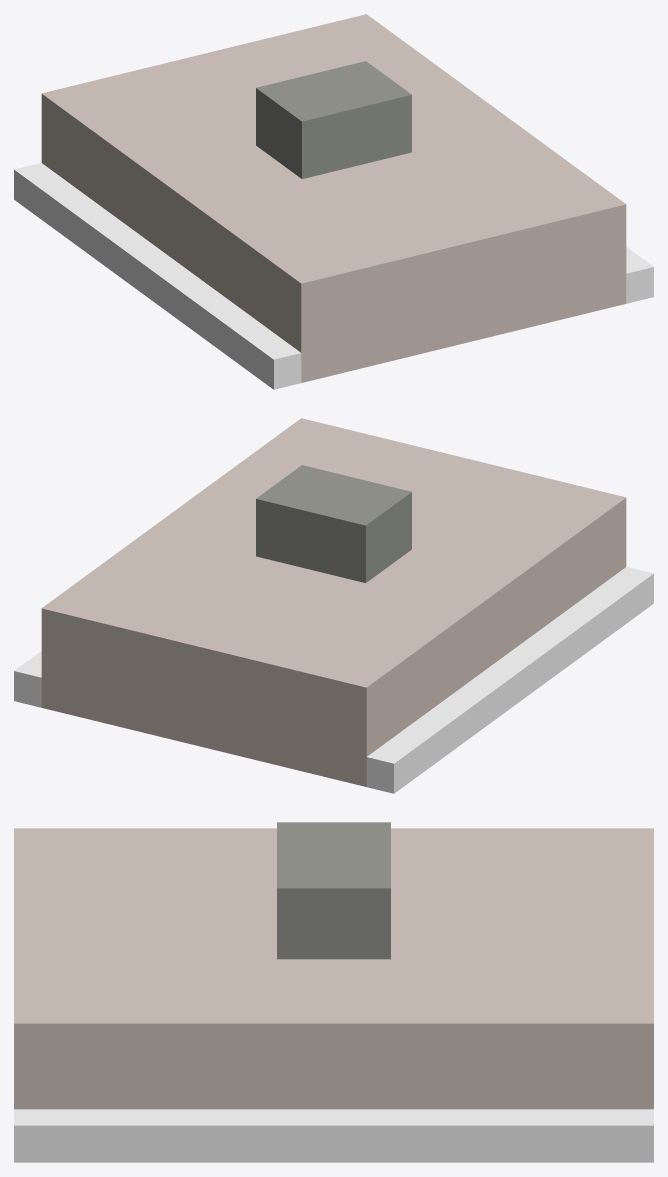
Rendered from top-prebuilt_far.fbx.
3 renders of one model, top to bottom at view 1: azimuth 30°, elevation 25°; view 2: azimuth 150°, elevation 25°; view 3: azimuth 270°, elevation 25°, orthographic. The views are drawn at different scales.
Visible parts, largest first — view 1: a2001/0/top-prebuilt_far; view 2: a2001/0/top-prebuilt_far; view 3: a2001/0/top-prebuilt_far.
Boxes of the visible parts, left/top/right/bottom form: a2001/0/top-prebuilt_far: left=14, top=14, right=653, bottom=389; a2001/0/top-prebuilt_far: left=14, top=418, right=653, bottom=793; a2001/0/top-prebuilt_far: left=14, top=822, right=653, bottom=1162.
Bounding box in the file's own units: 15.2 × 6 × 18.
